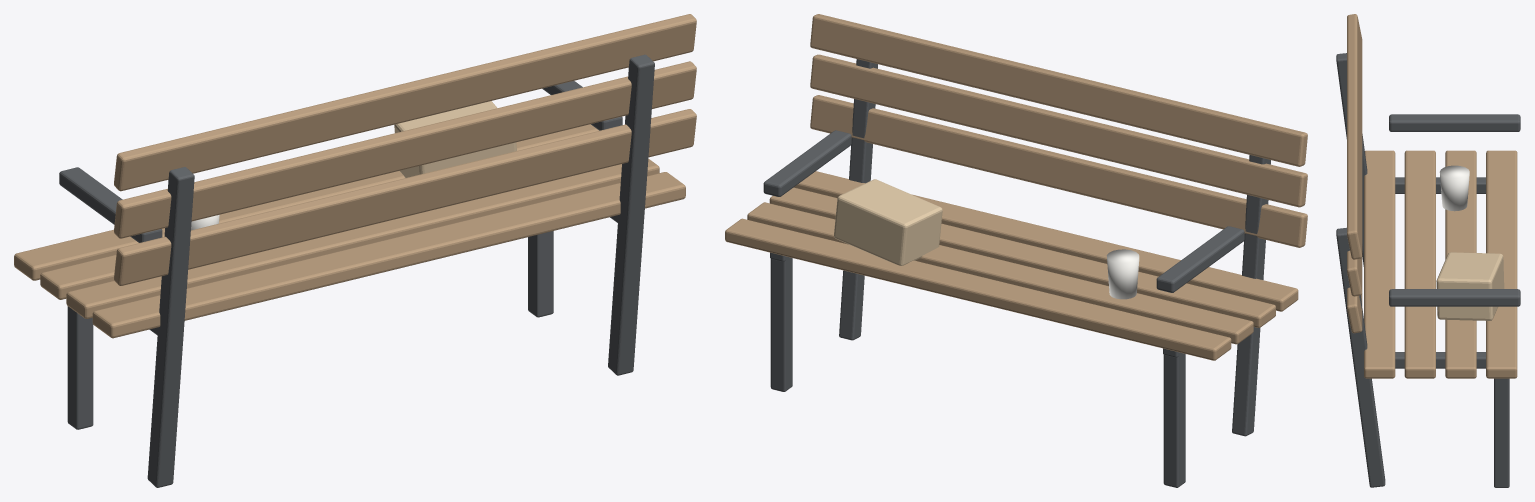
The model's file is bench.glb.
3 views of the same model, side by side, from view 1: azimuth 30°, elevation 25°; view 2: azimuth 150°, elevation 25°; view 3: azimuth 270°, elevation 25° (orthographic). The views are drawn at different scales.
Parts seen in each view (by area): view 1: bench; view 2: bench; view 3: bench.
Boxes of the visible parts, x1,y1,x2,y2 form: bench: (14,14,696,487); bench: (725,14,1307,487); bench: (1336,14,1520,487).
Size of the model in its own units: 1.65 by 0.9709 by 0.588.
